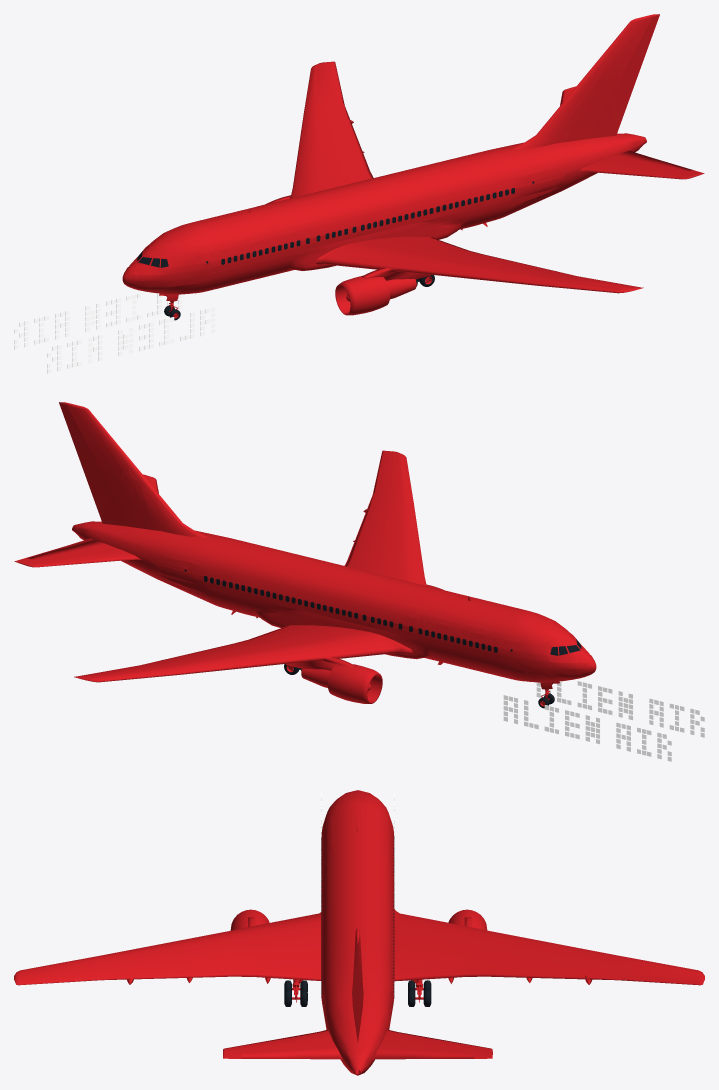
3 renders of one model, top to bottom at view 1: azimuth 30°, elevation 25°; view 2: azimuth 150°, elevation 25°; view 3: azimuth 270°, elevation 25°, orthographic. The views are drawn at different scales.
Visible parts, largest first — view 1: Material3015_29, Material2002_2, Material3019_33, Material3016_30, Material2009_9, Material3017_31, Material2001_1, Material3013_27, Material2003_3, Material2004_4; view 2: Material3015_29, Material2002_2, Material3019_33, Material3016_30, Material2009_9, Material3017_31, Material2001_1, Material3013_27, Material2003_3, Material2004_4; view 3: Material2002_2, Material3015_29, Material2001_1, Material2003_3, Material3019_33, Material3012_26, Material3016_30, Material2009_9.
Boxes of the visible parts, bbox=[...] form: Material3015_29: bbox=[133, 133, 646, 294]; Material2002_2: bbox=[265, 61, 643, 293]; Material3019_33: bbox=[126, 14, 659, 288]; Material3016_30: bbox=[122, 92, 595, 287]; Material2009_9: bbox=[126, 74, 620, 287]; Material3017_31: bbox=[122, 180, 560, 280]; Material2001_1: bbox=[173, 86, 704, 318]; Material3013_27: bbox=[137, 181, 534, 267]; Material2003_3: bbox=[258, 205, 389, 315]; Material2004_4: bbox=[137, 92, 681, 315]; Material3015_29: bbox=[72, 521, 585, 682]; Material2002_2: bbox=[74, 450, 443, 682]; Material3019_33: bbox=[59, 402, 592, 676]; Material3016_30: bbox=[98, 473, 596, 674]; Material2009_9: bbox=[115, 462, 592, 676]; Material3017_31: bbox=[158, 568, 596, 668]; Material2001_1: bbox=[14, 474, 545, 706]; Material3013_27: bbox=[184, 569, 581, 655]; Material2003_3: bbox=[328, 664, 375, 703]; Material2004_4: bbox=[37, 480, 581, 703]; Material2002_2: bbox=[14, 909, 704, 985]; Material3015_29: bbox=[322, 790, 393, 1075]; Material2001_1: bbox=[223, 979, 492, 1059]; Material2003_3: bbox=[230, 910, 487, 930]; Material3019_33: bbox=[352, 928, 363, 1042]; Material3012_26: bbox=[284, 980, 431, 1006]; Material3016_30: bbox=[323, 817, 392, 1018]; Material2009_9: bbox=[321, 827, 394, 1021].
Size of the model in its own units: 73.11 by 21.69 by 62.62.
